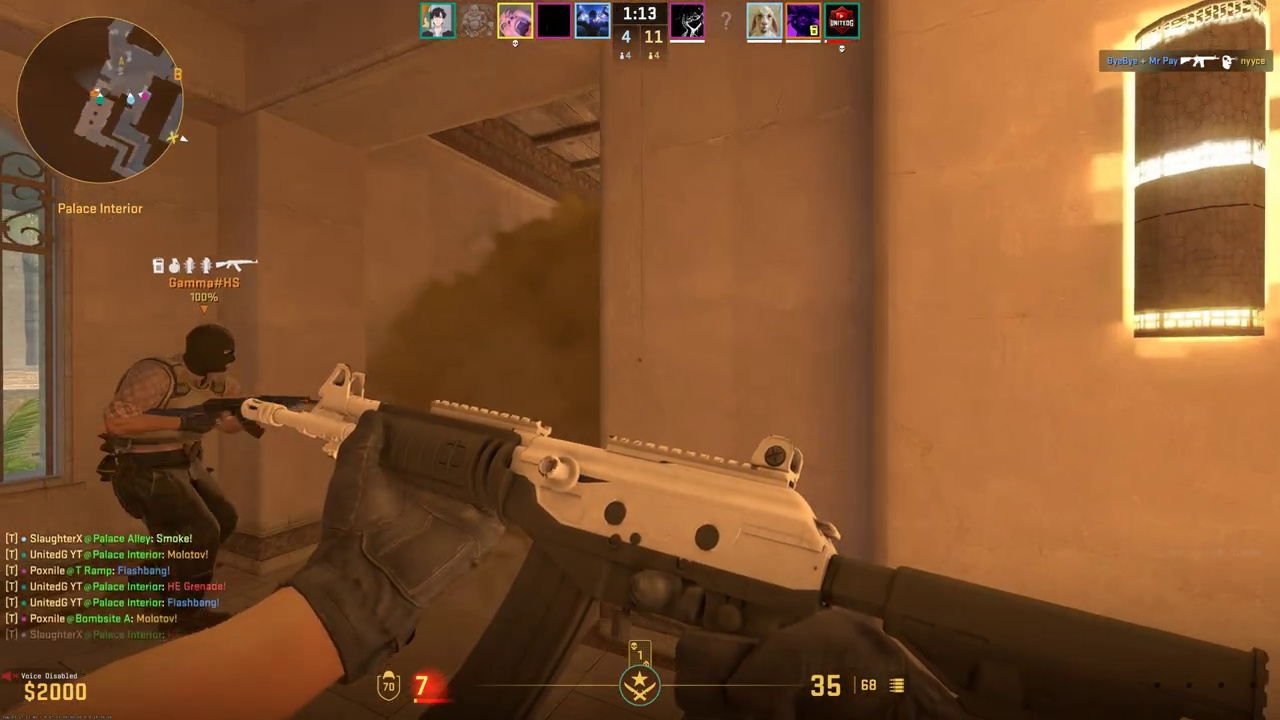Terrorist: (110, 324, 249, 631)
